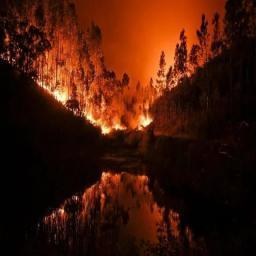Medium fire: (0, 0, 241, 143)
